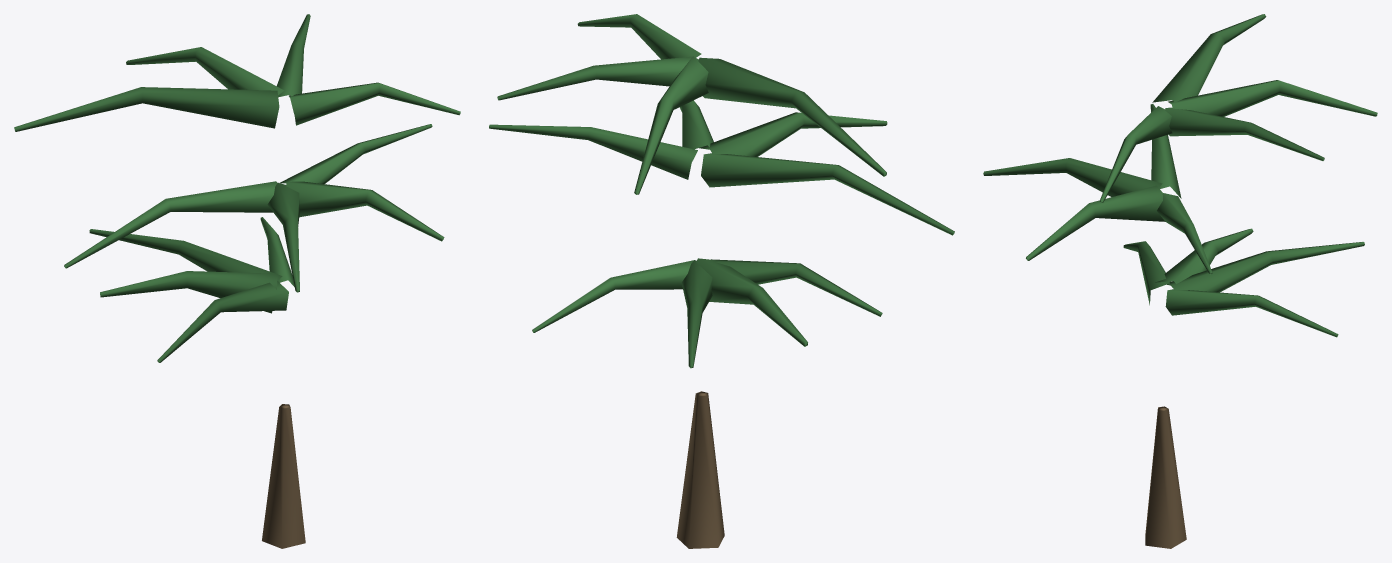
The model's file is field_fir_c_lod2.glb.
3 renders of one model, left to right at view 1: azimuth 30°, elevation 25°; view 2: azimuth 150°, elevation 25°; view 3: azimuth 270°, elevation 25°, orthographic. The views are drawn at different scales.
Visible parts, largest first — view 1: foliage, bark; view 2: foliage, bark; view 3: foliage, bark.
Boxes of the visible parts, <box> form: foliage: <box>14,14,460,362</box>; bark: <box>262,404,305,548</box>; foliage: <box>489,14,954,368</box>; bark: <box>676,391,724,548</box>; foliage: <box>983,14,1377,337</box>; bark: <box>1145,406,1186,548</box>.
Size of the model in its own units: 3.74 by 4.14 by 3.27.
